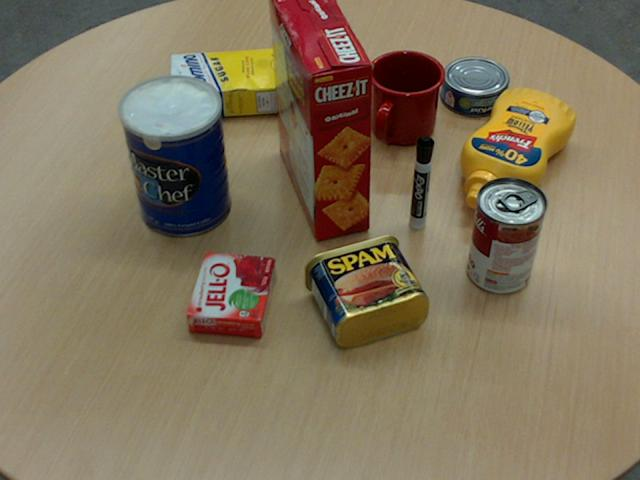cracker_box: (269, 0, 371, 239)
gelatin_box: (186, 250, 276, 336)
large_marker: (410, 136, 433, 229)
master_chef_can: (119, 75, 230, 237)
mug: (366, 49, 445, 144)
mustard_bottle: (459, 88, 574, 208)
potted_meat_can: (303, 233, 428, 346)
sugar_box: (169, 45, 313, 118)
tomato_soup_can: (467, 176, 546, 293)
tuna_fish_can: (439, 56, 508, 115)
